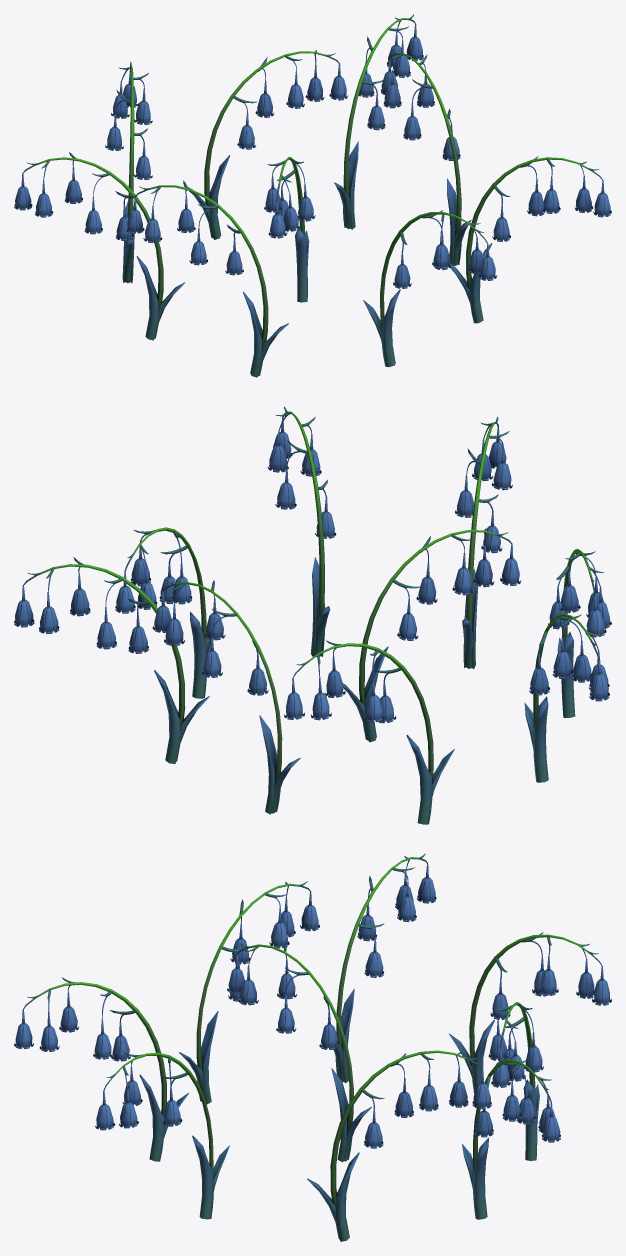
The model's file is BluebellsTile.fbx.
3 views of the same model, one above another, from view 1: azimuth 30°, elevation 25°; view 2: azimuth 150°, elevation 25°; view 3: azimuth 270°, elevation 25° (orthographic). The views are drawn at different scales.
Parts seen in each view (by area): view 1: Bluebell_distrobutionPlane.001; view 2: Bluebell_distrobutionPlane.001; view 3: Bluebell_distrobutionPlane.001.
Part boxes in pixels (x1=…): Bluebell_distrobutionPlane.001: x1=14, y1=14, x2=611, y2=377; Bluebell_distrobutionPlane.001: x1=14, y1=407, x2=611, y2=824; Bluebell_distrobutionPlane.001: x1=14, y1=853, x2=611, y2=1241.
Size of the model in its own units: 183 by 67.06 by 190.
